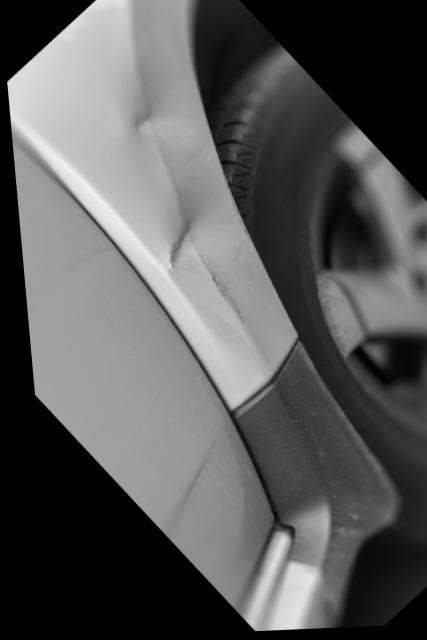dent: (125, 56, 279, 349)
